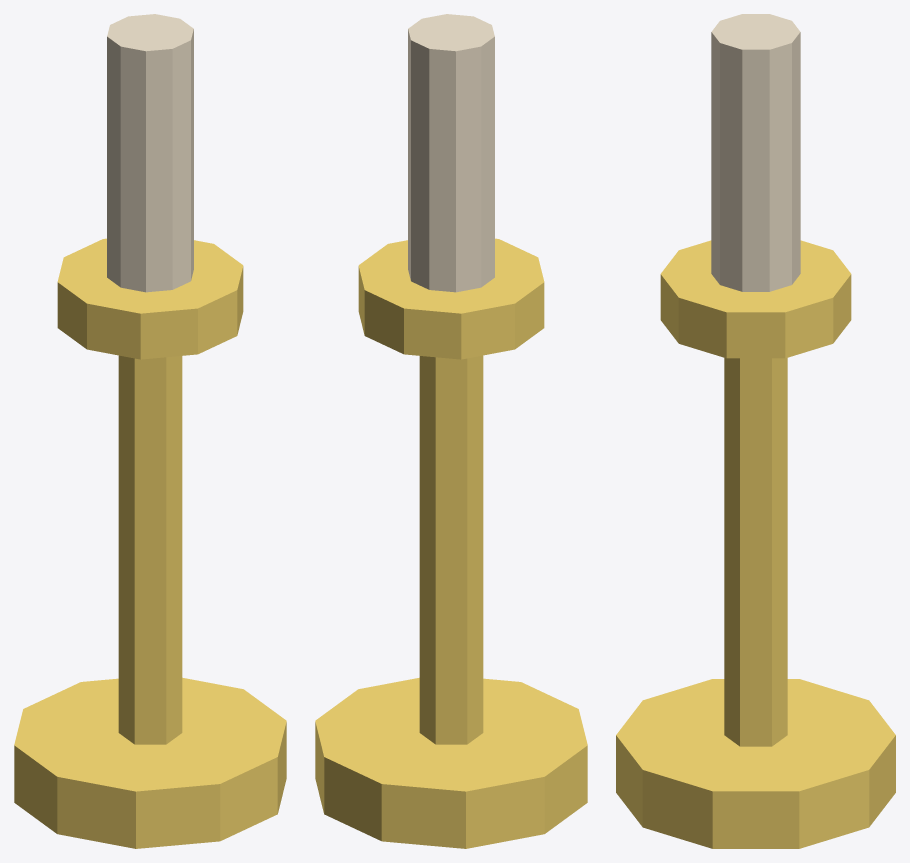
3 renders of one model, left to right at view 1: azimuth 30°, elevation 25°; view 2: azimuth 150°, elevation 25°; view 3: azimuth 270°, elevation 25°, orthographic.
Parts seen in each view (by area): view 1: Foot, Stand, Wax, Cup; view 2: Foot, Stand, Wax, Cup; view 3: Foot, Stand, Wax, Cup.
Part boxes in pixels (x1,y1,x2,y2): Foot: (14,677,286,848); Stand: (118,355,182,744); Wax: (107,14,193,292); Cup: (57,238,243,359); Foot: (315,677,587,848); Stand: (419,355,483,744); Wax: (408,14,494,292); Cup: (358,238,544,359); Foot: (616,679,895,848); Stand: (724,358,787,746); Wax: (711,14,800,291); Cup: (660,240,851,358).
Size of the model in its own units: 20.92 by 66 by 22.
